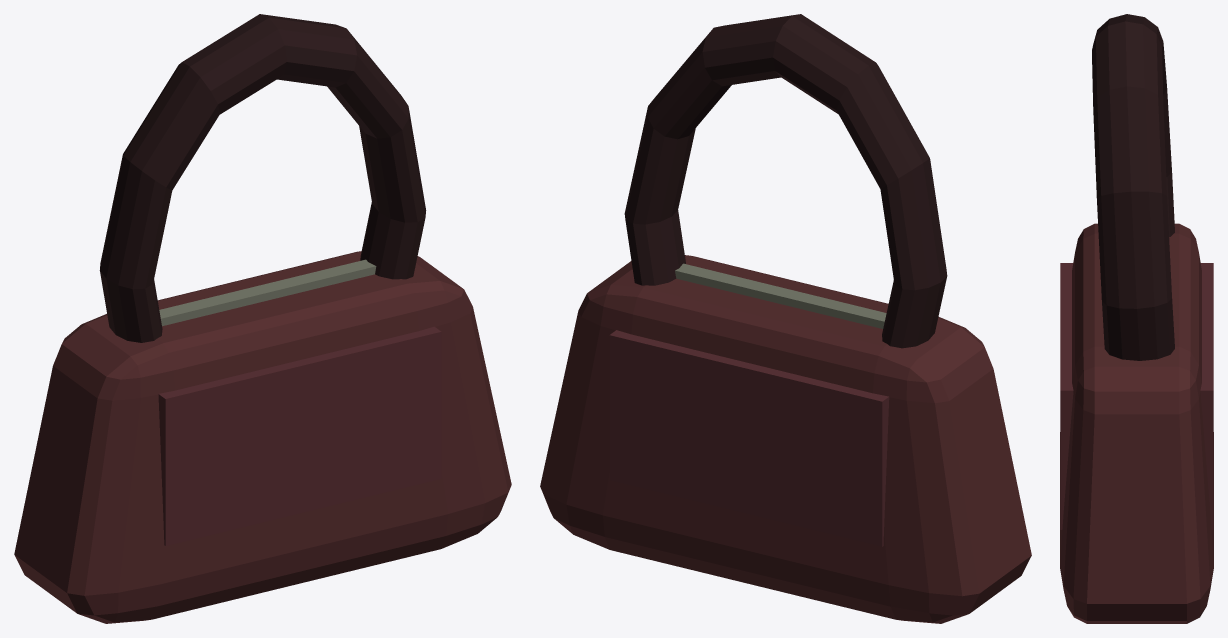
Rendered from Bolsa.fbx.
3 views of the same model, side by side, from view 1: azimuth 30°, elevation 25°; view 2: azimuth 150°, elevation 25°; view 3: azimuth 270°, elevation 25° (orthographic). The views are drawn at different scales.
Parts seen in each view (by area): view 1: Bolsafemenina; view 2: Bolsafemenina; view 3: Bolsafemenina.
Boxes of the visible parts, box(x1,y1,x2,y2) form: Bolsafemenina: box(14, 14, 511, 623); Bolsafemenina: box(540, 14, 1031, 623); Bolsafemenina: box(1060, 14, 1213, 623).
Bounding box in the file's own units: 3530 × 4193 × 1117.
